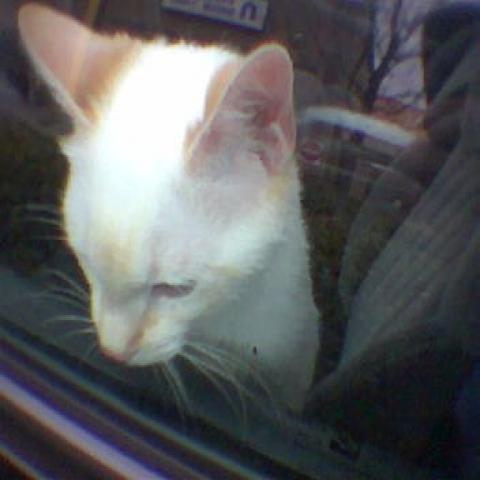car: (295, 101, 421, 189)
